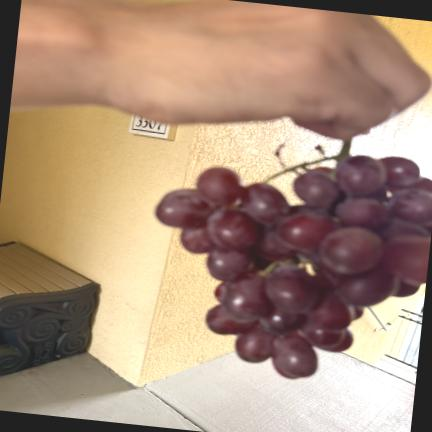grape_cluster: (156, 141, 432, 380)
